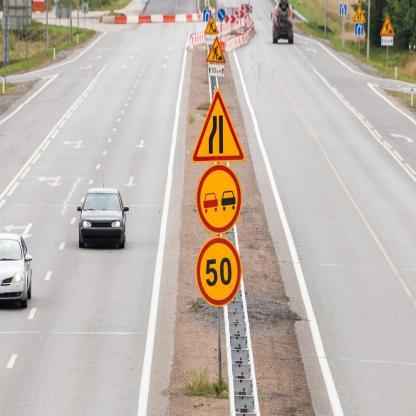road_sign: (191, 88, 245, 162), (196, 236, 242, 307), (197, 164, 243, 233), (205, 37, 225, 62)
